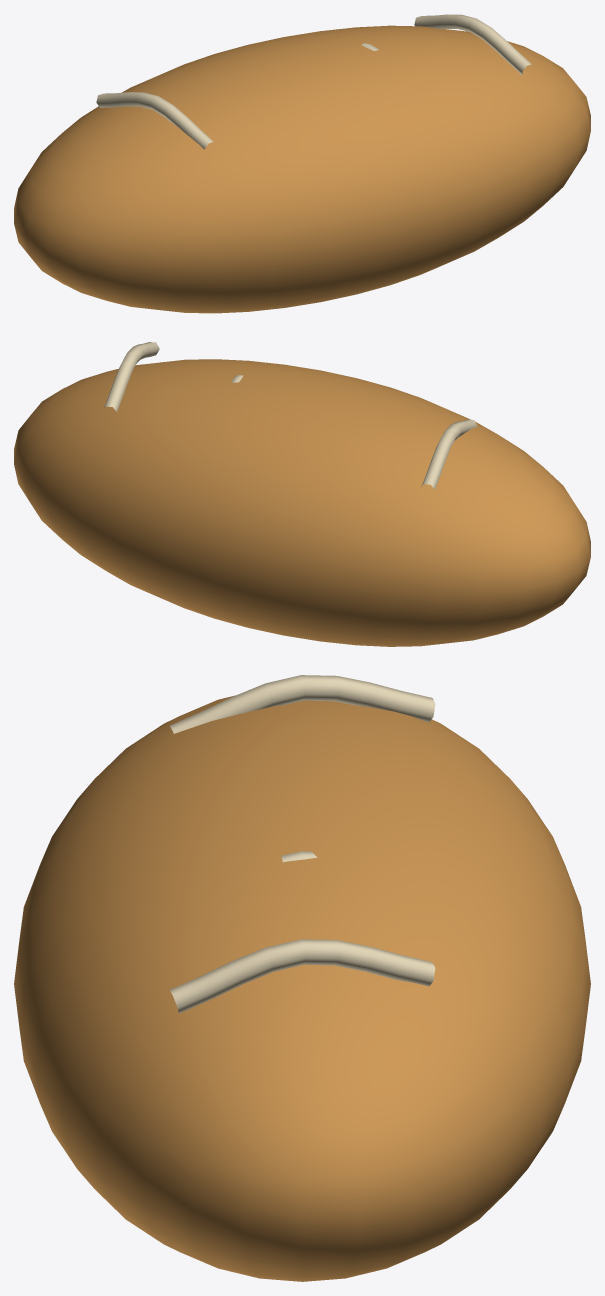
File: adventurers-tavern-and-guild-hall-bread-loaf-2b2cddad__24719.glb
3 renders of one model, top to bottom at view 1: azimuth 30°, elevation 25°; view 2: azimuth 150°, elevation 25°; view 3: azimuth 270°, elevation 25°, orthographic. The views are drawn at different scales.
Parts seen in each view (by area): view 1: bread-loaf; view 2: bread-loaf; view 3: bread-loaf.
Boxes of the visible parts, x1,y1,x2,y2 form: bread-loaf: (14, 14, 590, 313); bread-loaf: (14, 342, 590, 646); bread-loaf: (14, 675, 590, 1281).
Size of the model in its own units: 0.68 by 0.26 by 0.36.
